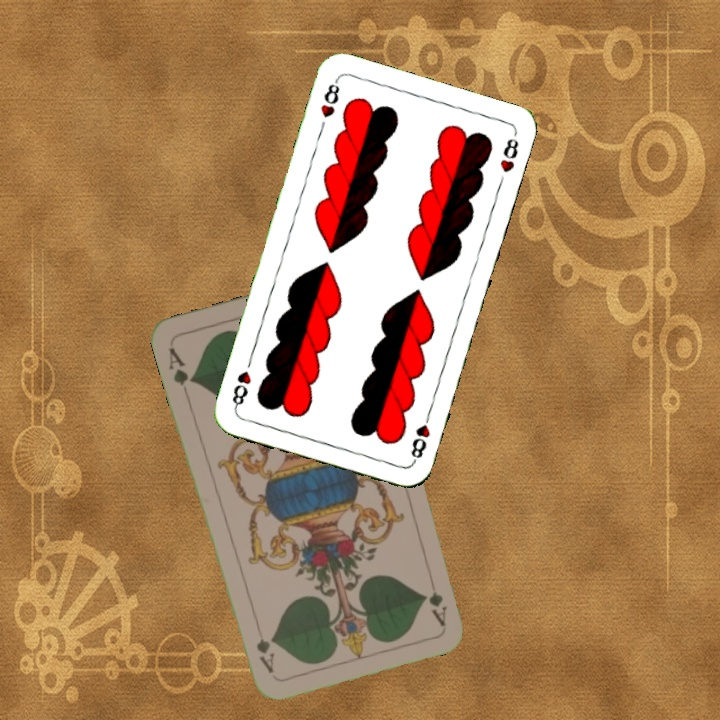GA: (164, 343, 197, 399), (424, 569, 450, 628)
H8: (406, 407, 434, 465), (316, 75, 343, 121)
